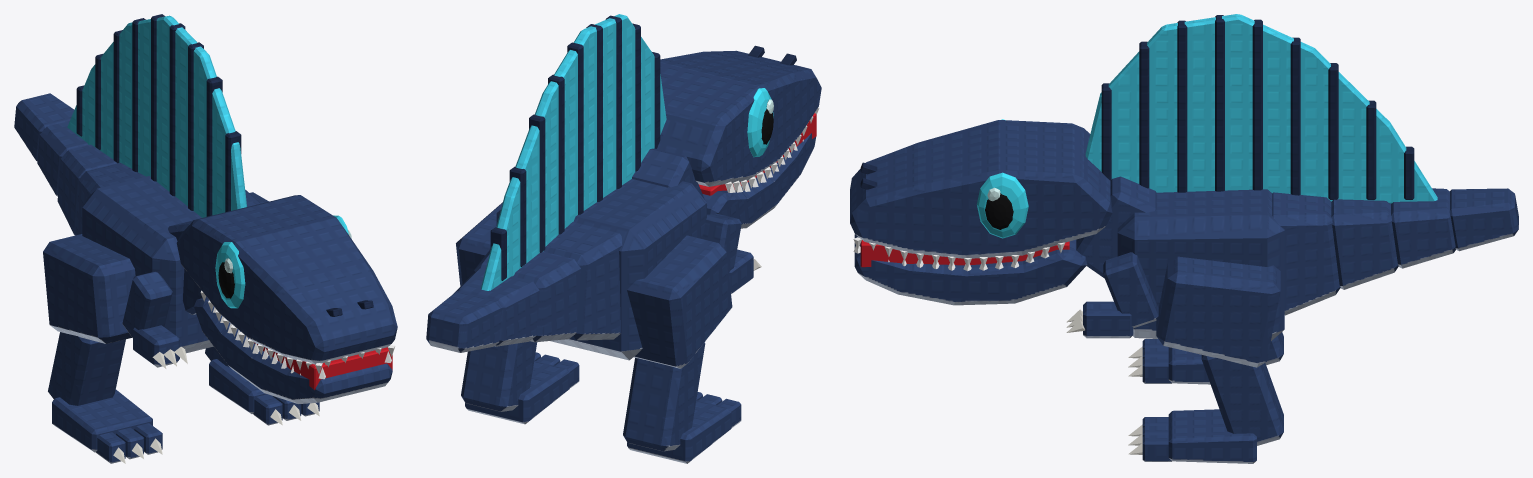
File: bebe_17_Spinosaurus.glb
3 views of the same model, side by side, from view 1: azimuth 30°, elevation 25°; view 2: azimuth 150°, elevation 25°; view 3: azimuth 270°, elevation 25° (orthographic). The views are drawn at different scales.
Parts seen in each view (by area): view 1: bebe_17_Spinosaurus; view 2: bebe_17_Spinosaurus; view 3: bebe_17_Spinosaurus.
Part boxes in pixels (<box>): bebe_17_Spinosaurus: <box>14,14,397,463</box>; bebe_17_Spinosaurus: <box>426,14,821,463</box>; bebe_17_Spinosaurus: <box>850,14,1518,463</box>.
Bounding box in the file's own units: 2.75 × 4.68 × 7.16.
1 material, 1 textured.
